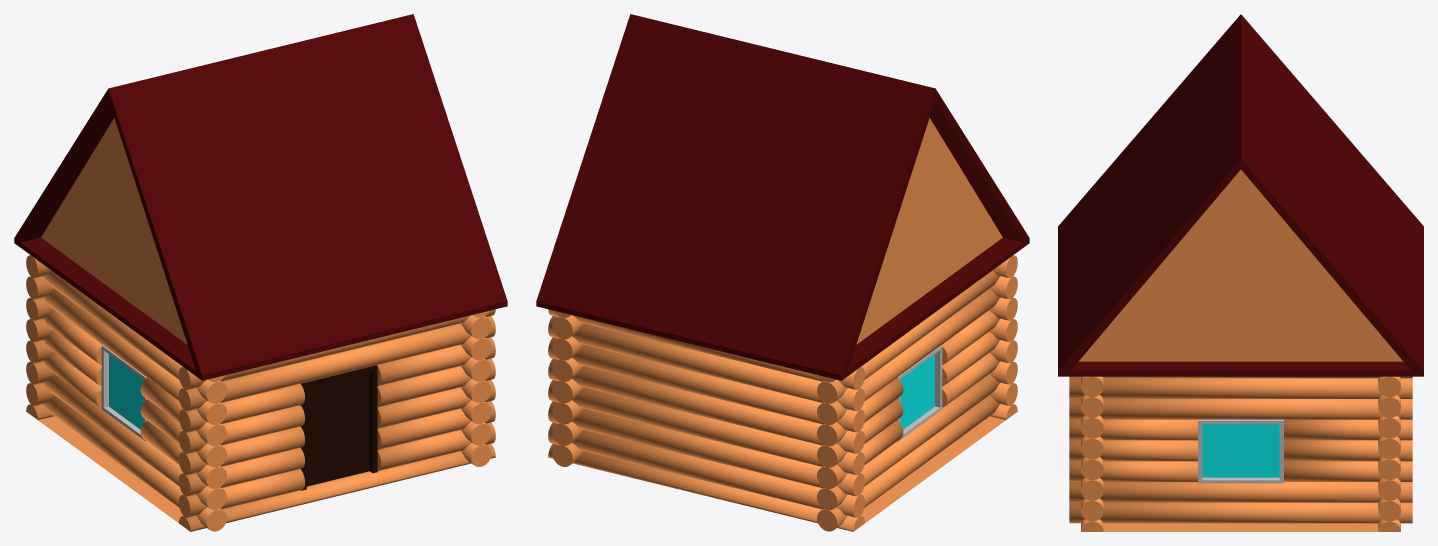
3 renders of one model, left to right at view 1: azimuth 30°, elevation 25°; view 2: azimuth 150°, elevation 25°; view 3: azimuth 270°, elevation 25°, orthographic. The views are drawn at different scales.
Visible parts, largest first — view 1: Плоскость.004, Плоскость.005, Куб.005, Цилиндр.062, Цилиндр.051, Цилиндр.074, Цилиндр.082, Цилиндр.075, Цилиндр.083, Плоскость.003, Цилиндр.053, Цилиндр.056 (+17 smaller); view 2: Плоскость.004, Плоскость.005, Цилиндр.045, Цилиндр.048, Цилиндр.044, Цилиндр.049, Цилиндр.046, Цилиндр.047, Цилиндр.043, Цилиндр.074, Цилиндр.082, Цилиндр.075 (+11 smaller); view 3: Плоскость.004, Плоскость.005, Цилиндр.064, Цилиндр.073, Цилиндр.072, Цилиндр.065, Куб.008, Плоскость.003, Цилиндр.067, Цилиндр.070, Цилиндр.068, Цилиндр.071 (+18 smaller).
Part boxes in pixels (x1,y1,x2,y2): Плоскость.004: (14,14,507,380); Плоскость.005: (41,118,187,344); Куб.005: (300,365,377,490); Цилиндр.062: (179,316,495,411); Цилиндр.051: (179,444,495,531); Цилиндр.074: (44,395,226,531); Цилиндр.082: (43,289,226,424); Цилиндр.075: (43,374,226,510); Цилиндр.083: (43,270,226,403); Плоскость.003: (38,416,183,522); Цилиндр.053: (179,447,304,496); Цилиндр.056: (179,384,304,432); Плоскость.004: (536,14,1029,380); Плоскость.005: (856,118,1002,344); Цилиндр.045: (548,401,864,496); Цилиндр.048: (548,337,864,432); Цилиндр.044: (548,422,864,517); Цилиндр.049: (548,316,864,411); Цилиндр.046: (548,380,864,475); Цилиндр.047: (548,358,864,453); Цилиндр.043: (548,444,864,531); Цилиндр.074: (817,395,999,531); Цилиндр.082: (817,289,1000,424); Цилиндр.075: (817,374,1000,510); Плоскость.004: (1058,14,1423,376); Плоскость.005: (1079,170,1402,361); Цилиндр.064: (1069,502,1412,523); Цилиндр.073: (1069,378,1412,398); Цилиндр.072: (1069,399,1412,419); Цилиндр.065: (1069,482,1412,502); Куб.008: (1202,424,1279,477); Плоскость.003: (1103,523,1378,531); Цилиндр.067: (1069,440,1197,461); Цилиндр.070: (1284,440,1412,461); Цилиндр.068: (1069,419,1197,440); Цилиндр.071: (1284,419,1412,440).
Bounding box in the file's own units: 6 × 7.2 × 6.4.
